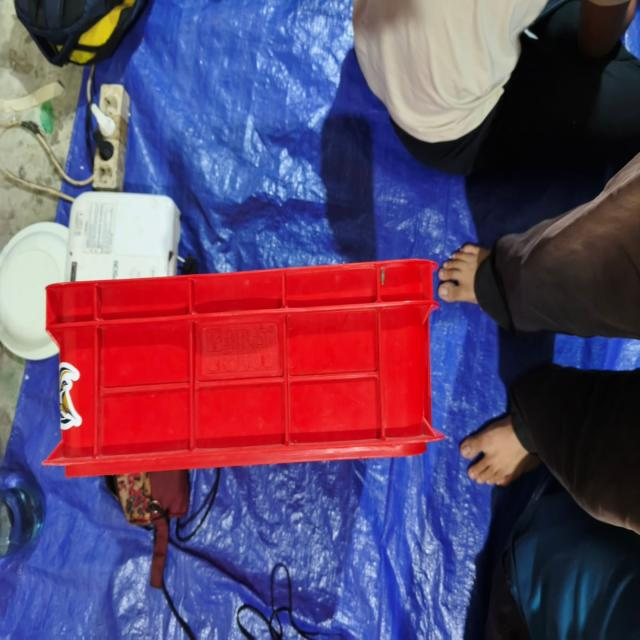red plastic box: (43, 258, 444, 479)
